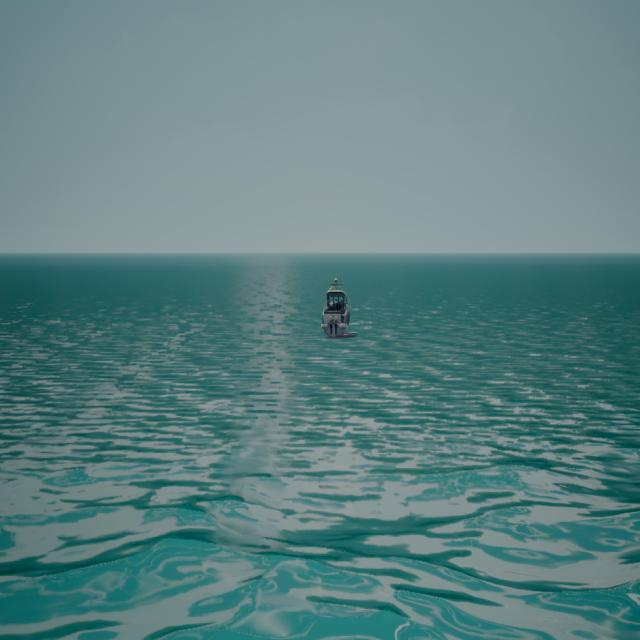ship: (321, 278, 350, 340)
